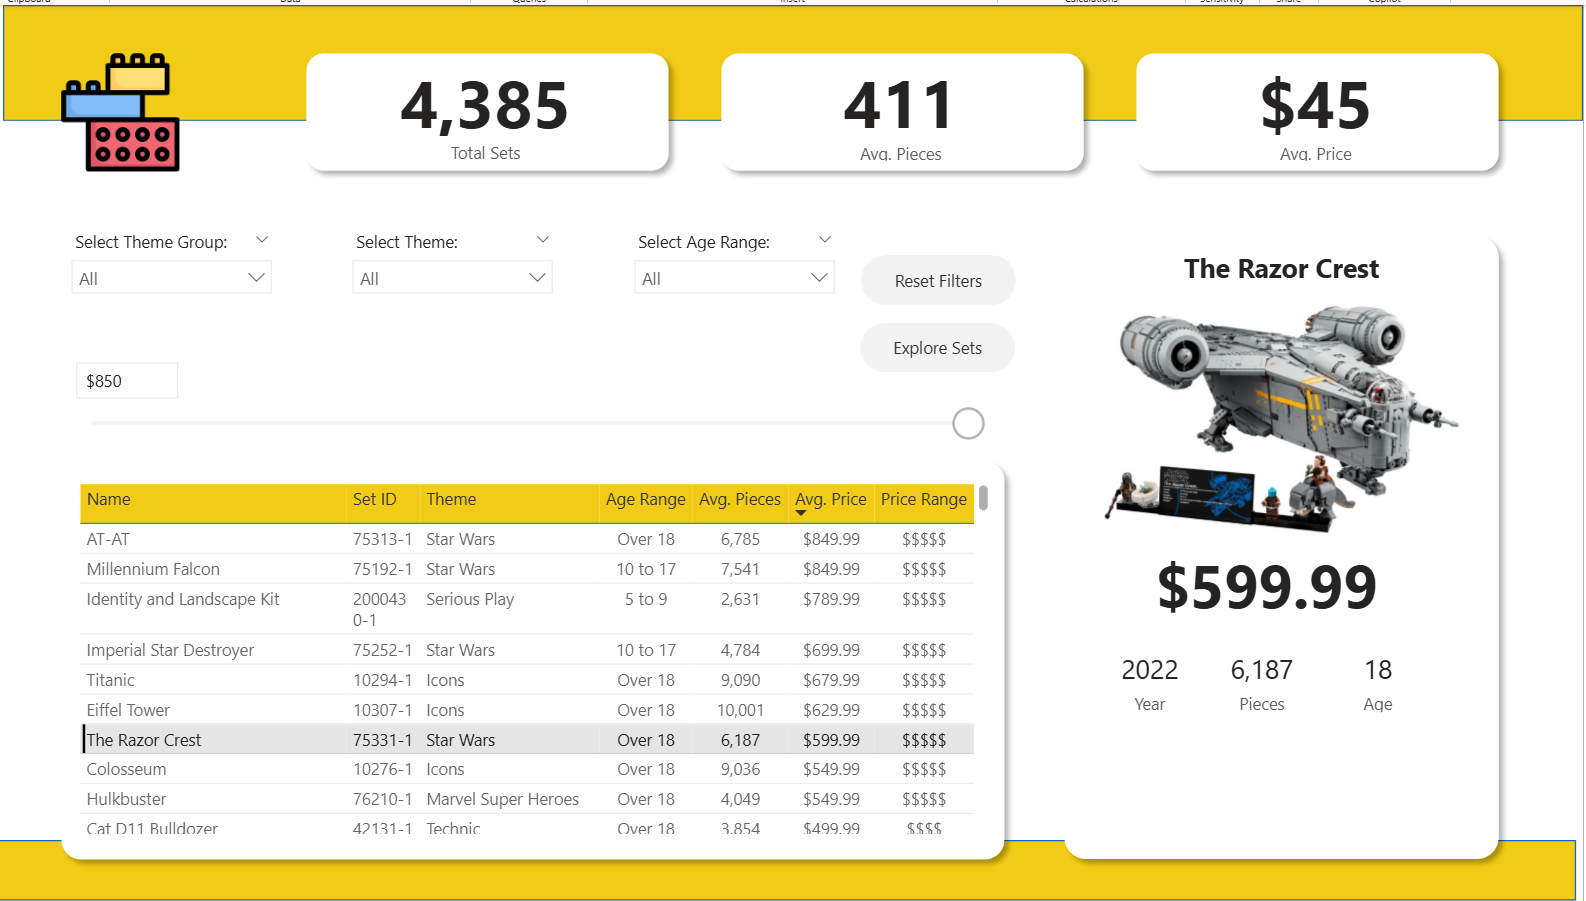

The page's visual inventory and layout, read from the dashboard file:
{"tool":"powerbi","page":{"name":"LEGO Set Finder","canvas":[1280,720],"ordinal":0},"visuals":[{"type":"shape","box":[10.4,0,1269.6,93.3],"z":0},{"type":"shape","box":[4.8,671.1,1269.6,48.6],"z":1000},{"type":"image","box":[47.8,33.5,114,105.2],"z":2000},{"type":"shape","box":[244.7,29.5,309.2,112.4],"z":3000},{"type":"shape","box":[911.8,29.5,309.2,112.4],"z":4000},{"type":"shape","box":[578.2,29.5,309.2,112.4],"z":5000},{"type":"card","fields":{"Values":["Measure Table.Total Sets"]},"box":[276.4,40.2,243.5,89.2],"z":6000},{"type":"card","fields":{"Values":["Measure Table.Avg. Price"]},"box":[943.7,40.2,243.9,89.7],"z":7000},{"type":"card","fields":{"Values":["Measure Table.Avg. Pieces"]},"box":[609.9,40.2,243.9,89.7],"z":8000},{"type":"slicer","fields":{"Values":["lego_sets.themeGroup"]},"box":[55.3,176,181.3,79.8],"z":9000},{"type":"slicer","fields":{"Values":["lego_sets.Age Range"]},"box":[507.7,176,181.3,79.8],"z":10000},{"type":"slicer","fields":{"Values":["lego_sets.theme"]},"box":[281.5,176,181.3,79.8],"z":11000},{"type":"shape","box":[48,357.2,776,338.1],"z":12000},{"type":"shape","box":[853.9,176.8,367.1,518.5],"z":13000},{"type":"tableEx","fields":{"Values":["lego_sets.name","lego_sets.set_id","lego_sets.theme","lego_sets.Age Range","Measure Table.Avg. Pieces","Measure Table.Avg. Price","lego_sets.Price Range"]},"box":[67.1,379.8,740.6,291],"z":14000},{"type":"card","fields":{"Values":["Measure Table.Selected Set"]},"box":[872.1,184,331.8,57.1],"z":15000},{"type":"simpleImageEBC4593F96F1425FB3D84C5BF02B5075","fields":{"imageURL":["lego_sets.imageURL"]},"box":[890.2,229.3,294.6,206.7],"z":16000},{"type":"card","fields":{"Values":["Measure Table.Selected Price"]},"box":[880.2,436,291.9,57.1],"z":17000},{"type":"card","fields":{"Values":["Measure Table.Selected Year"]},"box":[887.5,514,89.7,58.9],"z":18000},{"type":"card","fields":{"Values":["Measure Table.Selected Pieces"]},"box":[972.7,514,97.9,58.9],"z":19000},{"type":"card","fields":{"Values":["Measure Table.Selected Age"]},"box":[1066.1,514,97.9,58.9],"z":20000},{"type":"slicer","fields":{"Values":["Max Price.Max Price"]},"box":[56.2,277.4,751.5,79.8],"z":21000},{"type":"actionButton","box":[699.5,200.5,124.5,40.3],"z":22000},{"type":"actionButton","box":[698.8,255.4,124.8,39.7],"z":23000}]}

Visuals, with their boxes on the page's 1280x720 design canvas (x1, y1, x2, y2). These are canvas units, not pixel positions in the 1586x901 screenshot, which may show the page scaled, cropped or inside an application window:
shape: (x1=10, y1=0, x2=1280, y2=93)
shape: (x1=5, y1=671, x2=1274, y2=720)
image: (x1=48, y1=34, x2=162, y2=139)
shape: (x1=245, y1=30, x2=554, y2=142)
shape: (x1=912, y1=30, x2=1221, y2=142)
shape: (x1=578, y1=30, x2=887, y2=142)
card - Measure Table.Total Sets: (x1=276, y1=40, x2=520, y2=129)
card - Measure Table.Avg. Price: (x1=944, y1=40, x2=1188, y2=130)
card - Measure Table.Avg. Pieces: (x1=610, y1=40, x2=854, y2=130)
slicer - lego_sets.themeGroup: (x1=55, y1=176, x2=237, y2=256)
slicer - lego_sets.Age Range: (x1=508, y1=176, x2=689, y2=256)
slicer - lego_sets.theme: (x1=282, y1=176, x2=463, y2=256)
shape: (x1=48, y1=357, x2=824, y2=695)
shape: (x1=854, y1=177, x2=1221, y2=695)
tableEx - lego_sets.name x lego_sets.set_id: (x1=67, y1=380, x2=808, y2=671)
card - Measure Table.Selected Set: (x1=872, y1=184, x2=1204, y2=241)
simpleImageEBC4593F96F1425FB3D84C5BF02B5075 - lego_sets.imageURL: (x1=890, y1=229, x2=1185, y2=436)
card - Measure Table.Selected Price: (x1=880, y1=436, x2=1172, y2=493)
card - Measure Table.Selected Year: (x1=888, y1=514, x2=977, y2=573)
card - Measure Table.Selected Pieces: (x1=973, y1=514, x2=1071, y2=573)
card - Measure Table.Selected Age: (x1=1066, y1=514, x2=1164, y2=573)
slicer - Max Price.Max Price: (x1=56, y1=277, x2=808, y2=357)
actionButton: (x1=700, y1=200, x2=824, y2=241)
actionButton: (x1=699, y1=255, x2=824, y2=295)
